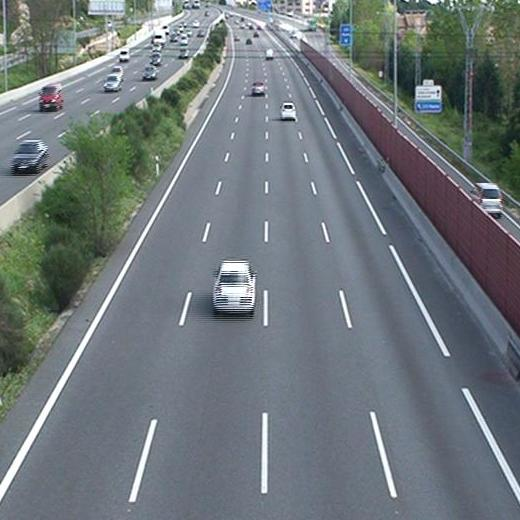car: (212, 258, 256, 311), (281, 103, 296, 119), (250, 82, 265, 95)
